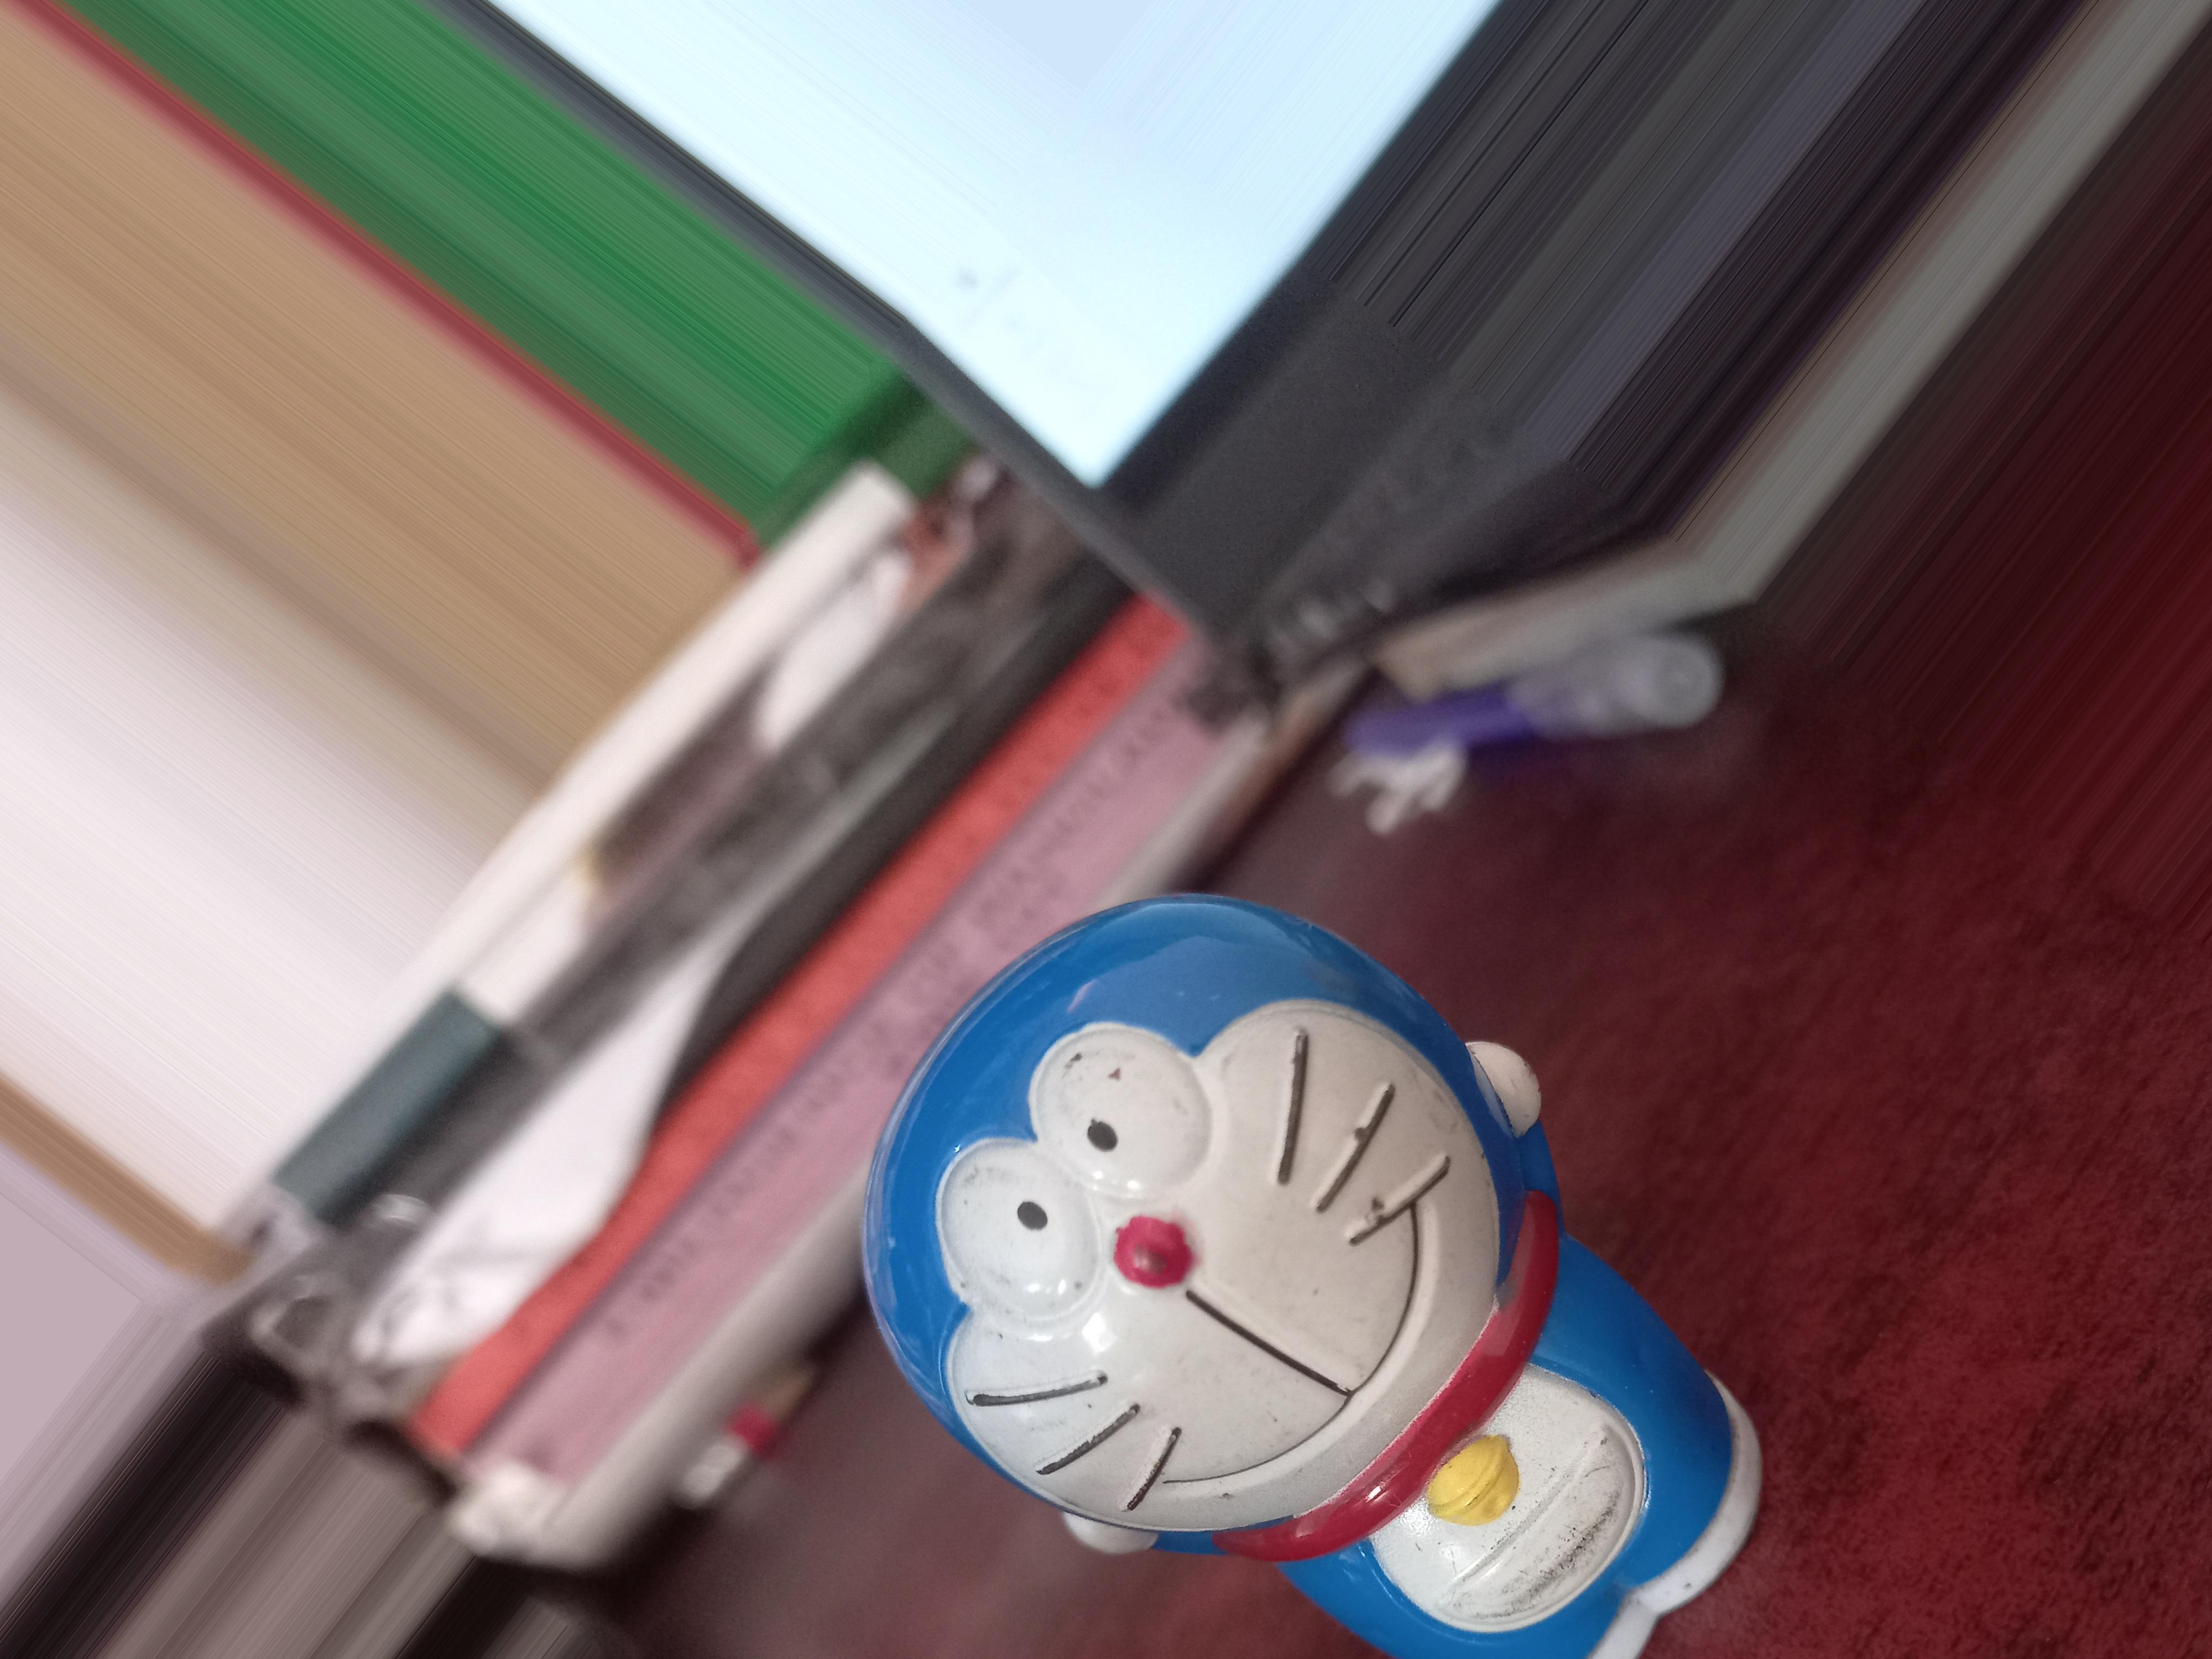doraemon: (698, 843, 1778, 1647)
